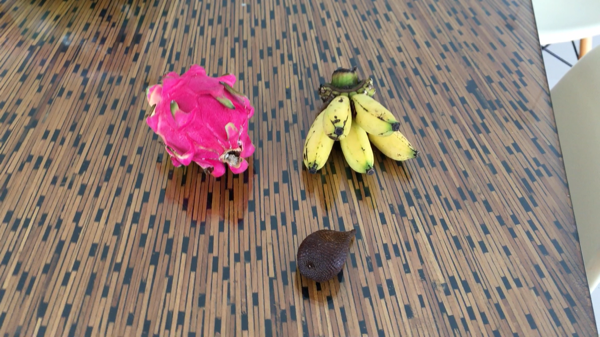banana: (301, 68, 418, 176)
dragon fruit: (144, 65, 257, 180)
snake fruit: (297, 226, 359, 284)
